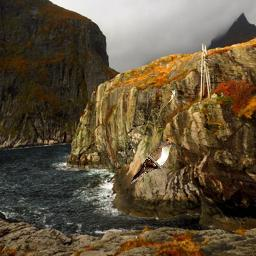Cuckoo: (131, 141, 176, 184), (156, 87, 177, 123)
